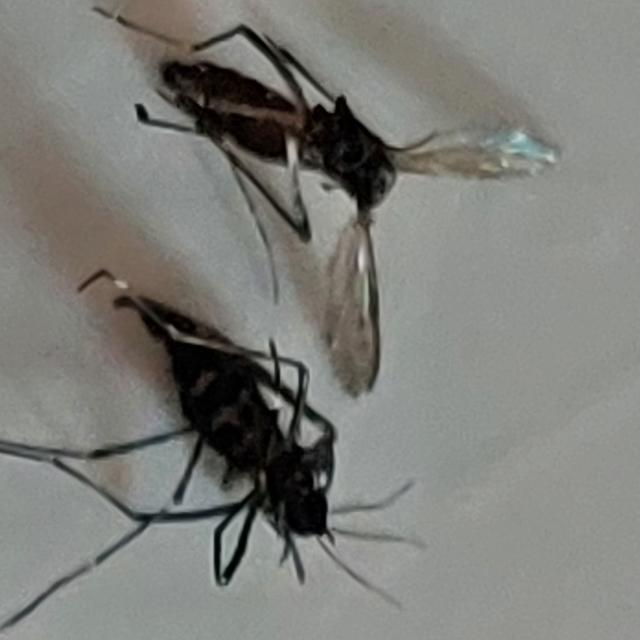albopictus: (13, 206, 416, 605)
